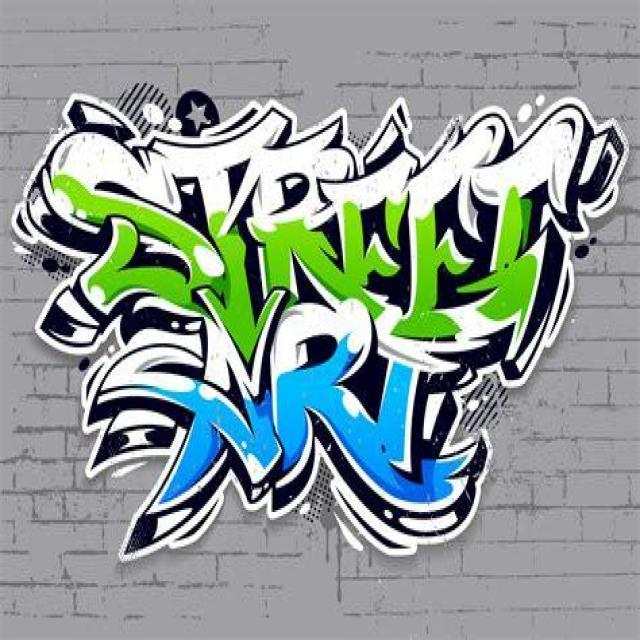nonspitting: (14, 79, 626, 563)
